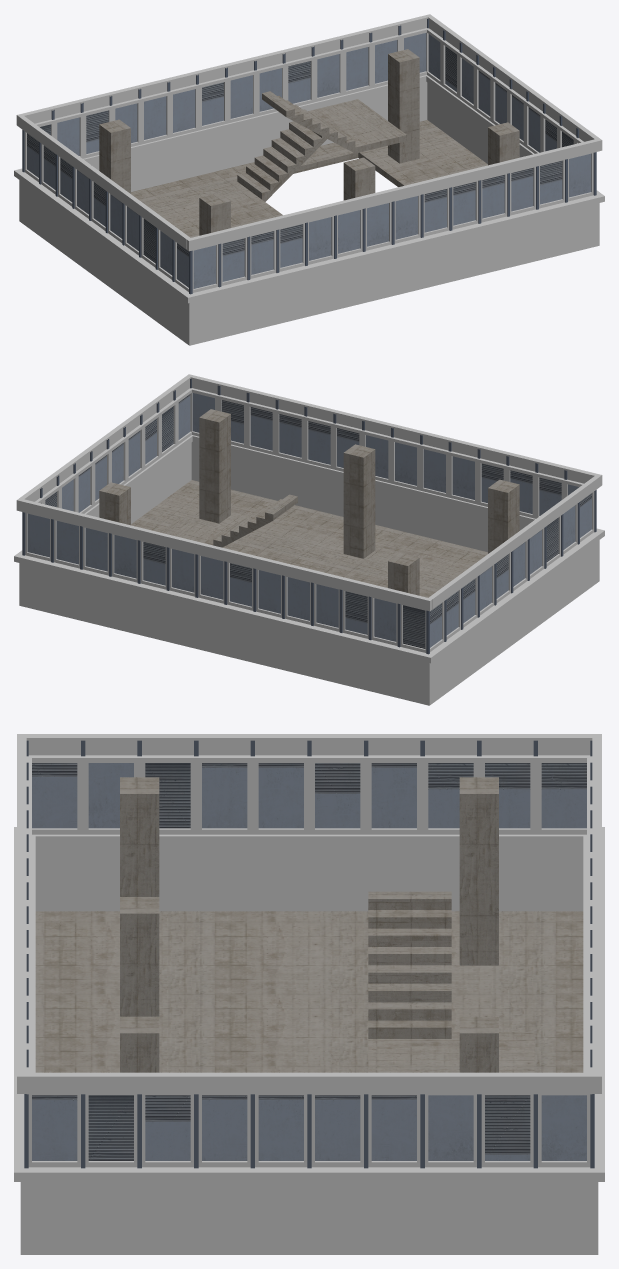
File: Ruin2B_LOD0.fbx
3 views of the same model, one above another, from view 1: azimuth 30°, elevation 25°; view 2: azimuth 150°, elevation 25°; view 3: azimuth 270°, elevation 25° (orthographic). The views are drawn at different scales.
Parts seen in each view (by area): view 1: polySurface349; view 2: polySurface349; view 3: polySurface349.
Part boxes in pixels (bbox=[...]): polySurface349: bbox=[14, 14, 604, 345]; polySurface349: bbox=[14, 374, 604, 705]; polySurface349: bbox=[14, 734, 604, 1254].
Bounding box in the file's own units: 14.44 × 3.72 × 10.44.
